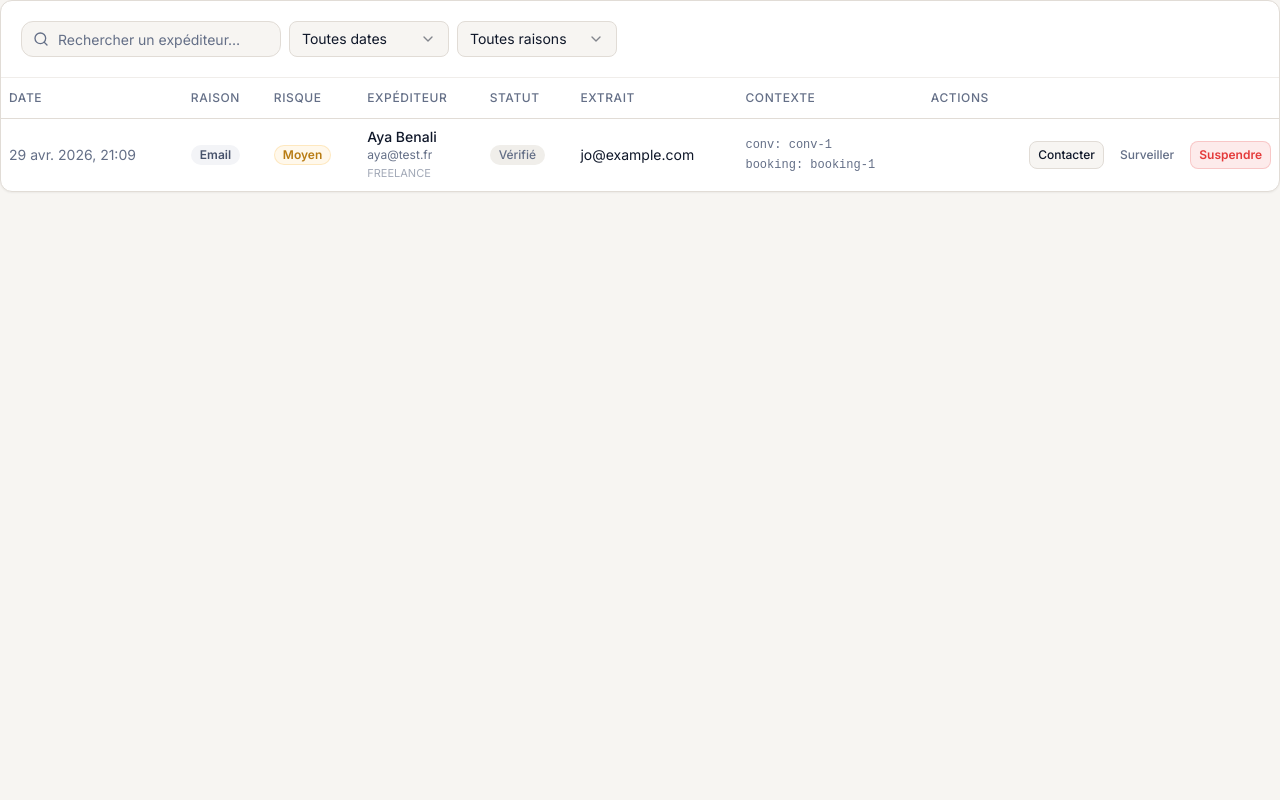
it: ContactBypassEventsTable › désactive l'envoi si le message personnalisé est vide
Click the button "Contacter".
click(1066, 154)  # box [1029,140,1104,168]
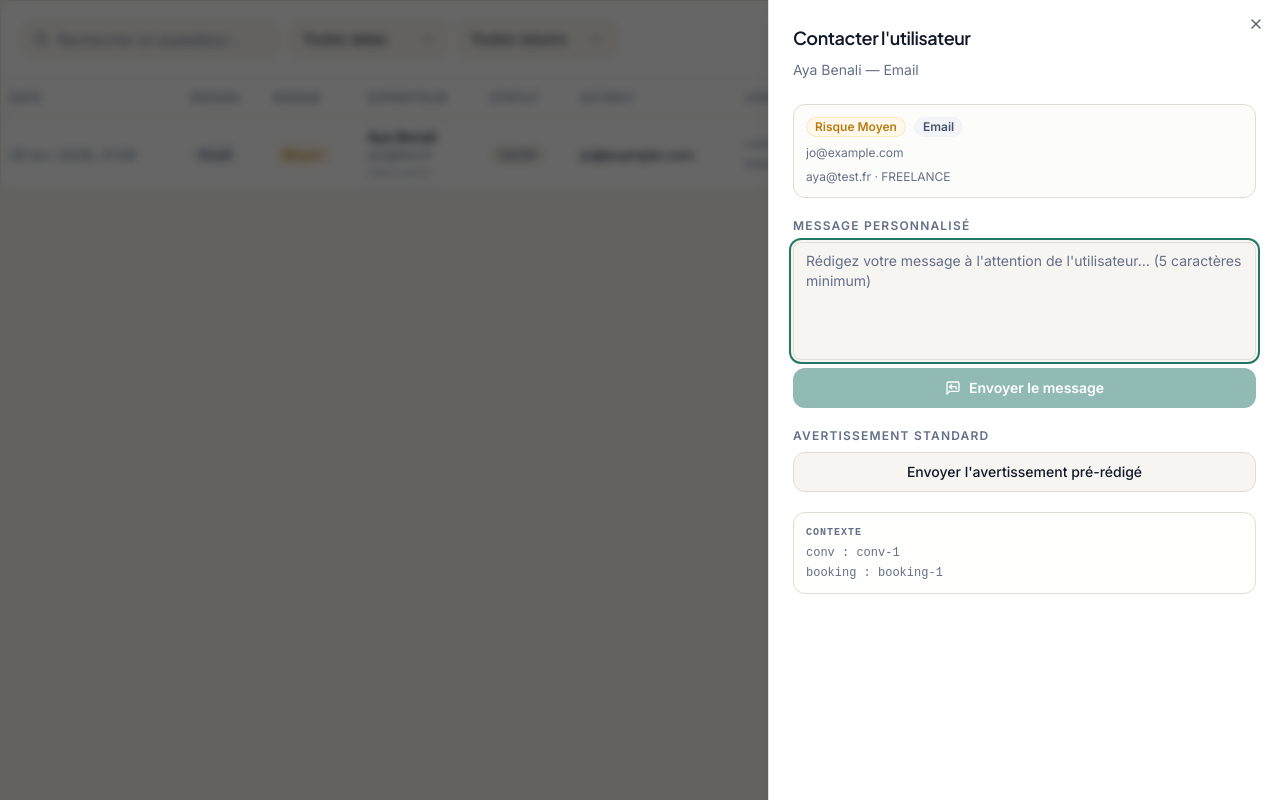
Expected: the button "Envoyer le message" is disabled, [793,368,1256,408]
